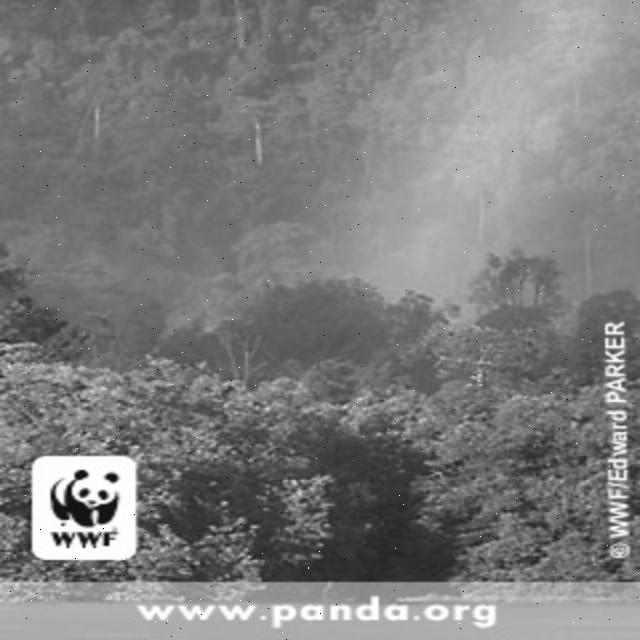panda: (48, 464, 120, 526)
